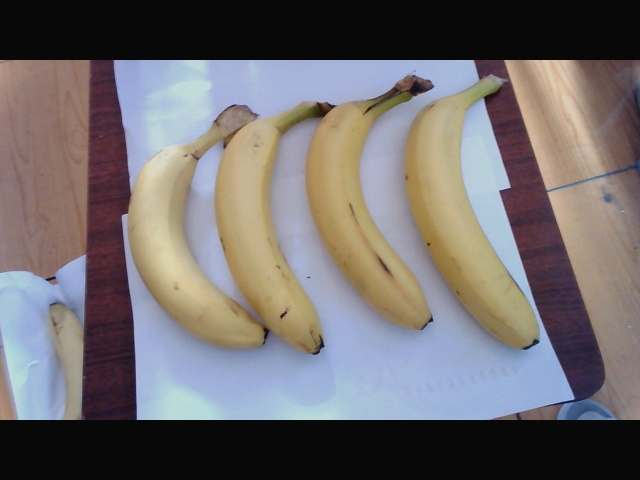banana: (406, 79, 552, 344), (309, 89, 421, 341), (213, 104, 315, 364), (125, 107, 216, 363)
